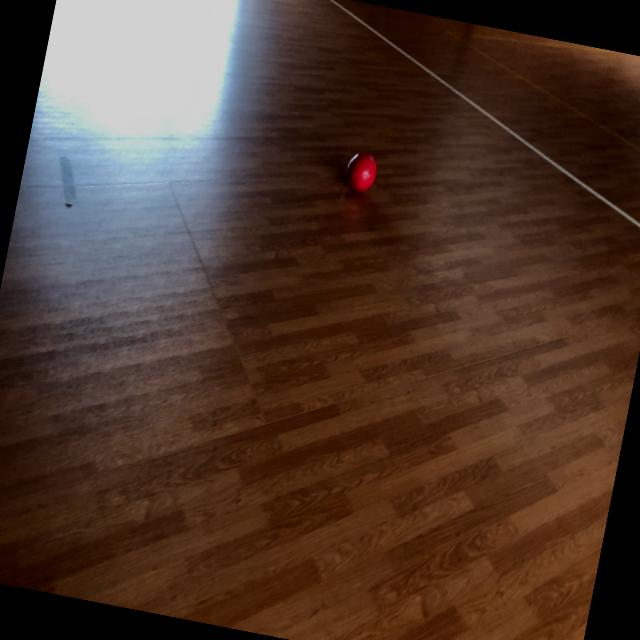red_ball: (342, 147, 381, 195)
